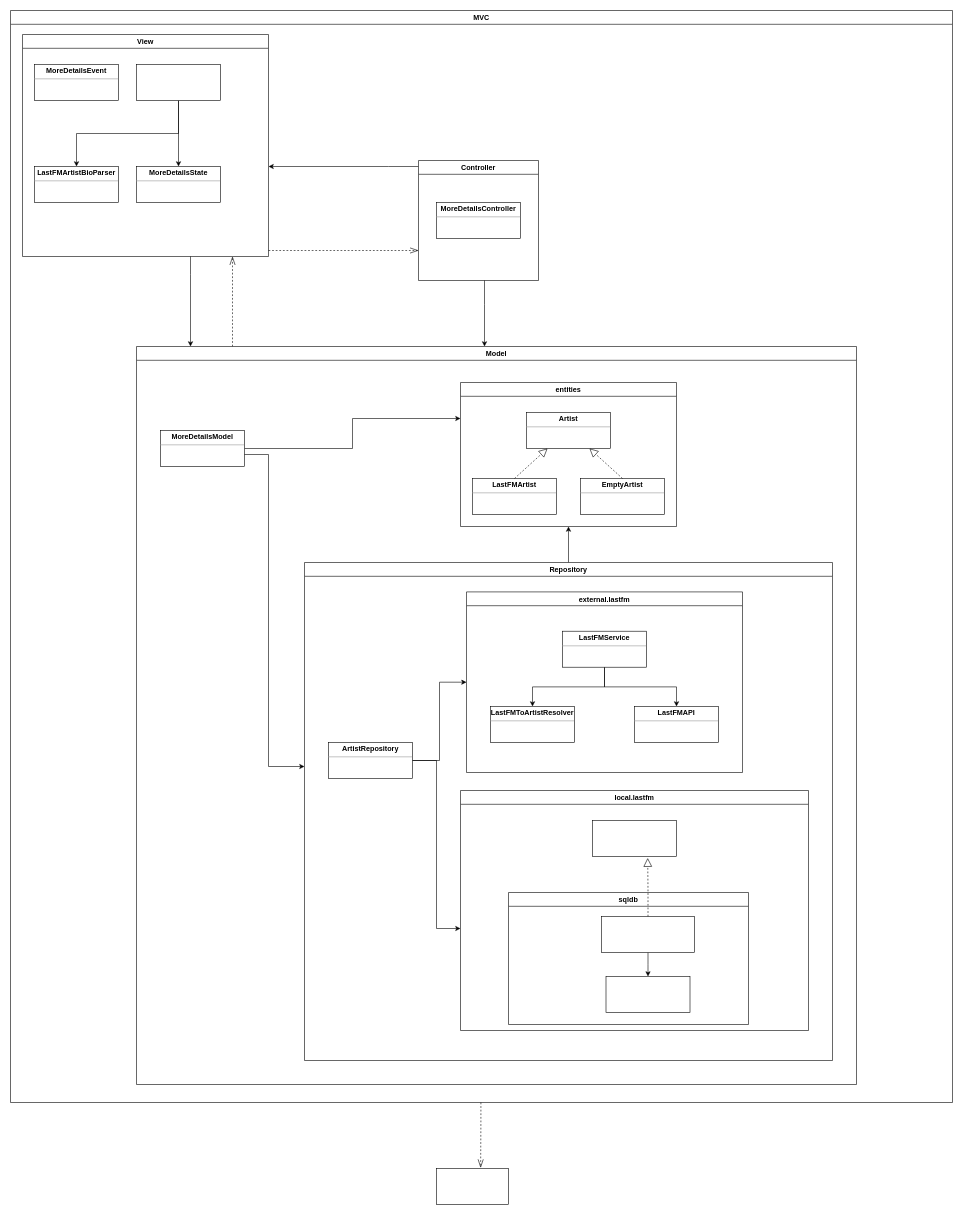
This 963x1215 diagram has some shape labels left out. Each missing label, with the centre of its shape:
"CursorToArtistMapper" belongs at (x=647, y=994).
"Home" belongs at (x=472, y=1186).
"LastFMLocalStorage" belongs at (x=634, y=838).
"LastFMLocalStorageImpl" belongs at (x=647, y=934).
"MoreDetailsView" belongs at (x=178, y=82).
